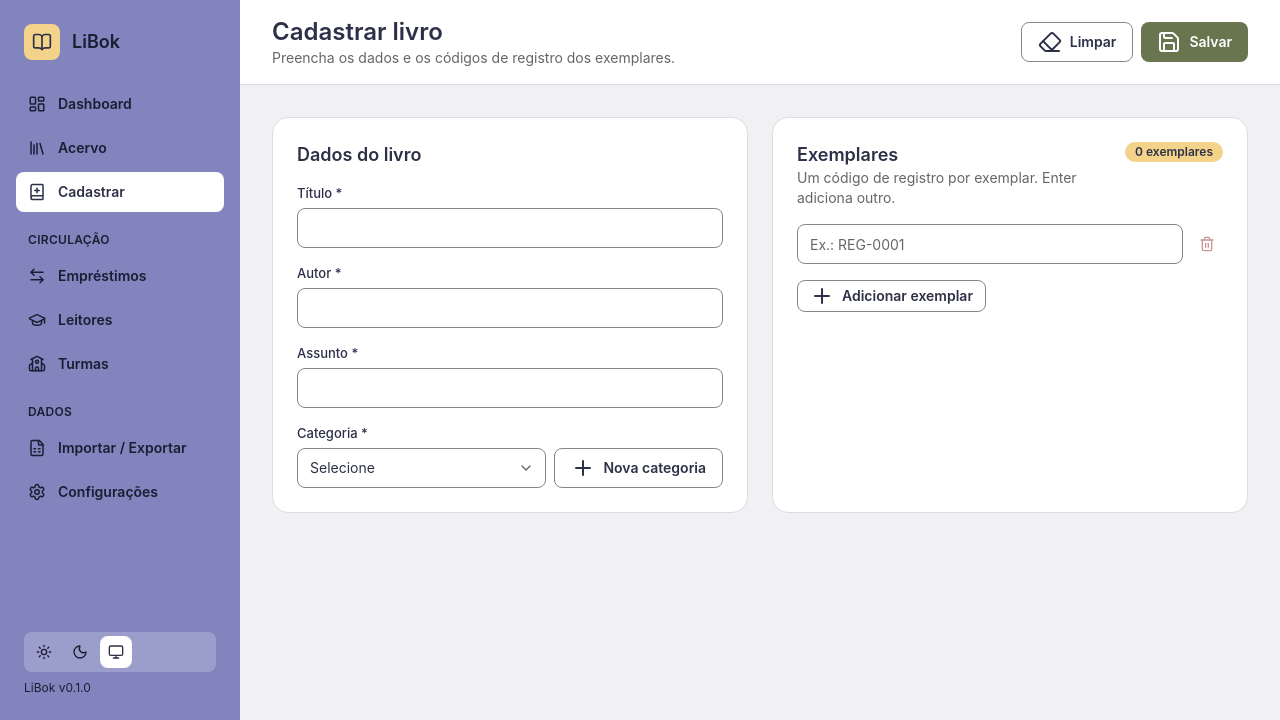
Test case: fluxo: cadastrar livro › mostra o erro de título duplicado no campo
Type "o pequeno principe" into the field labelled "Título *" at (510, 228), box [297,208,723,248]
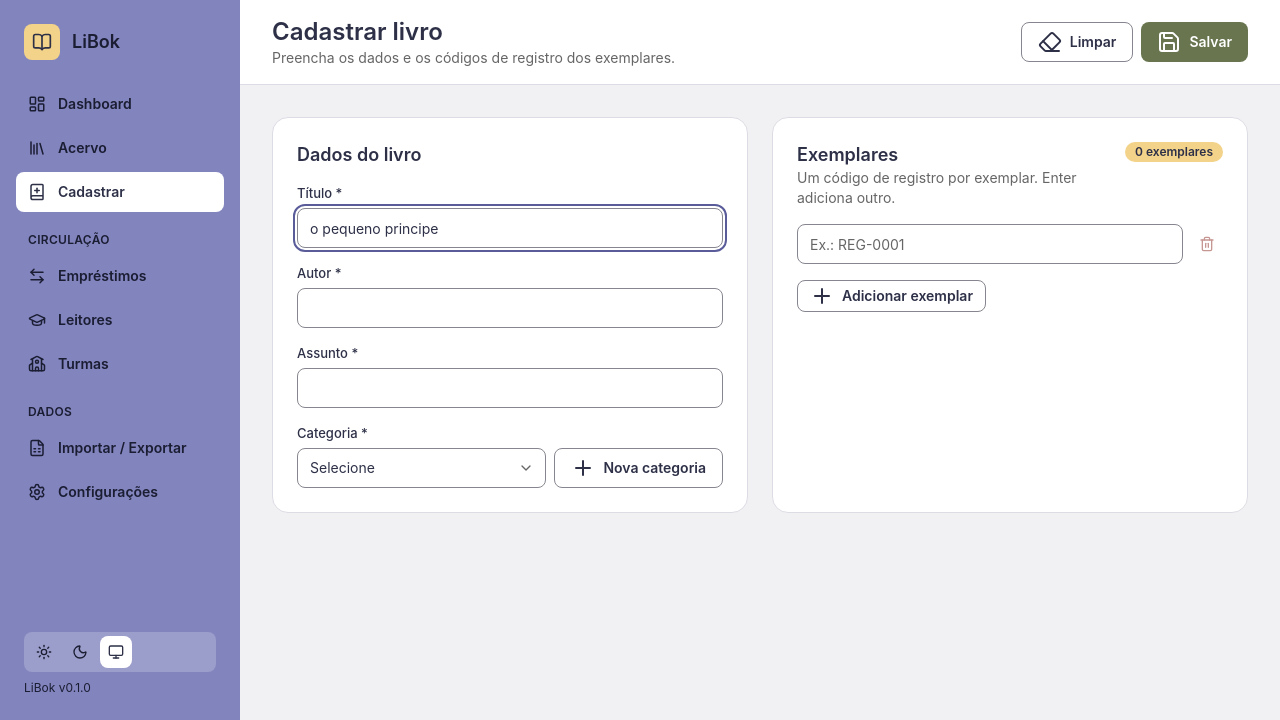
Type "X" into the field labelled "Autor *" at (510, 308), box [297,288,723,328]
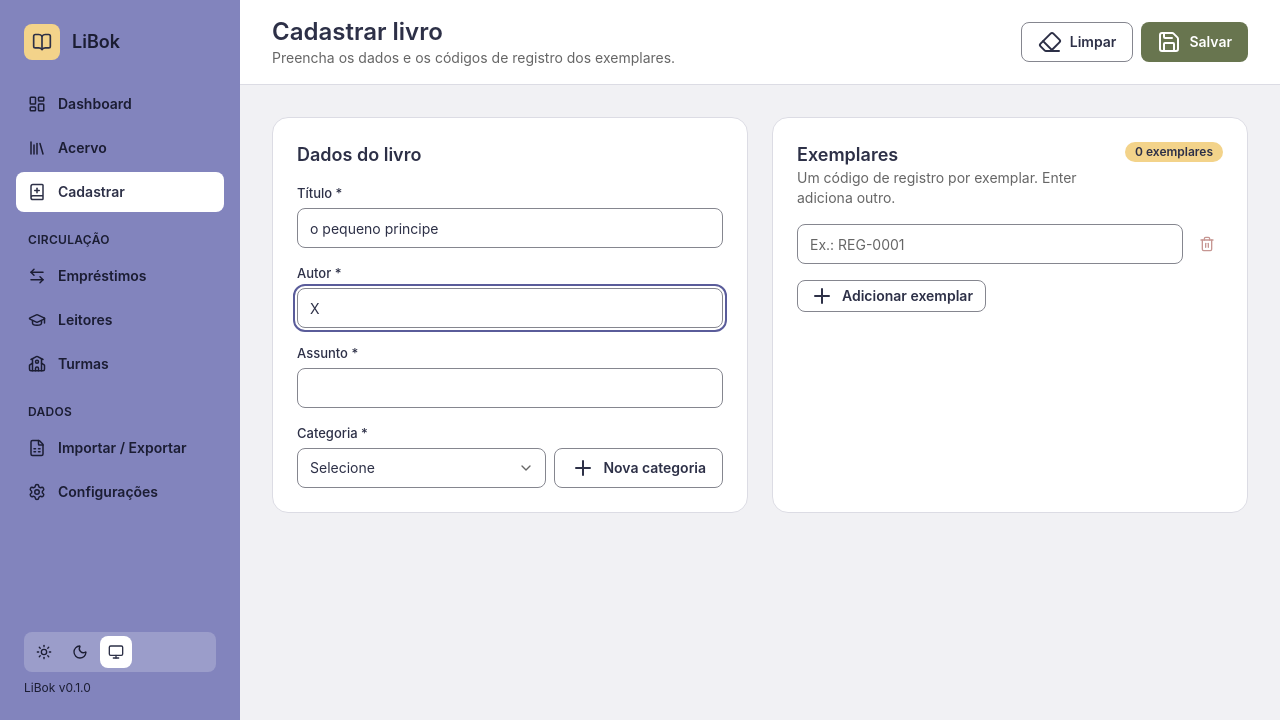
Type "Y" into the field labelled "Assunto *" at (510, 388), box [297,368,723,408]
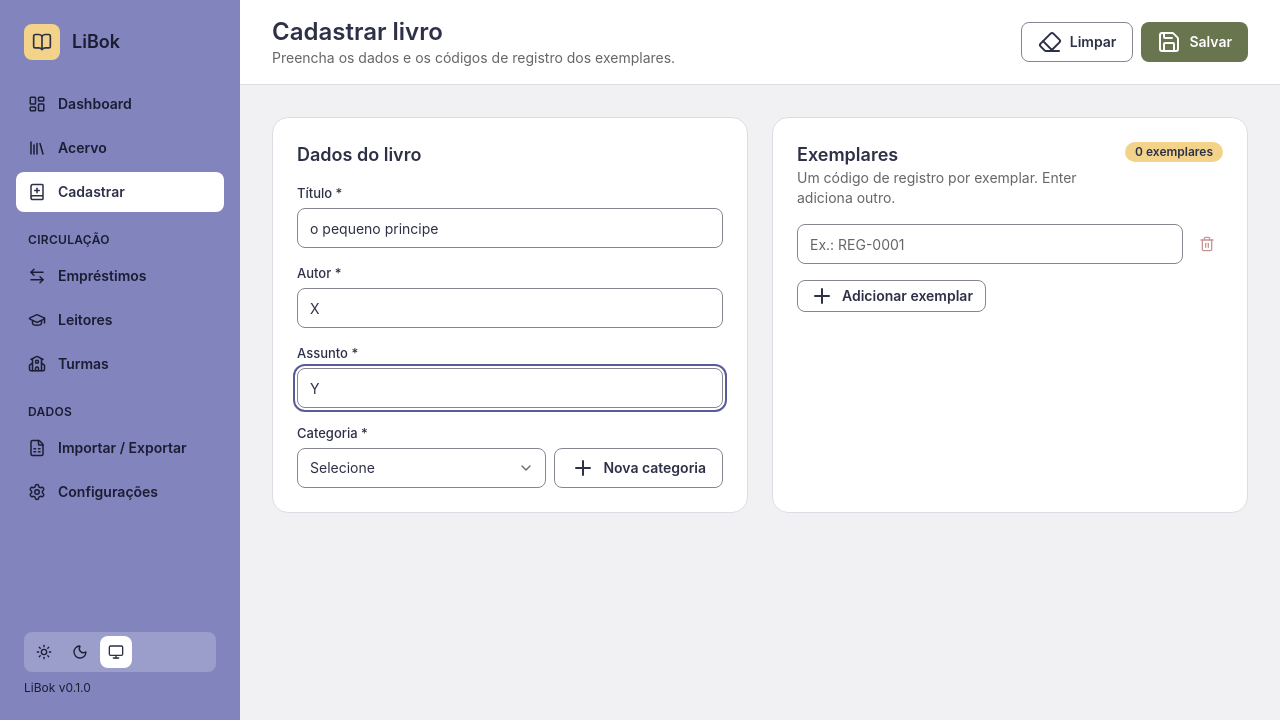
Select "Infantil" in the dropdown labelled "Categoria *" at (422, 468), box [297,448,546,488]
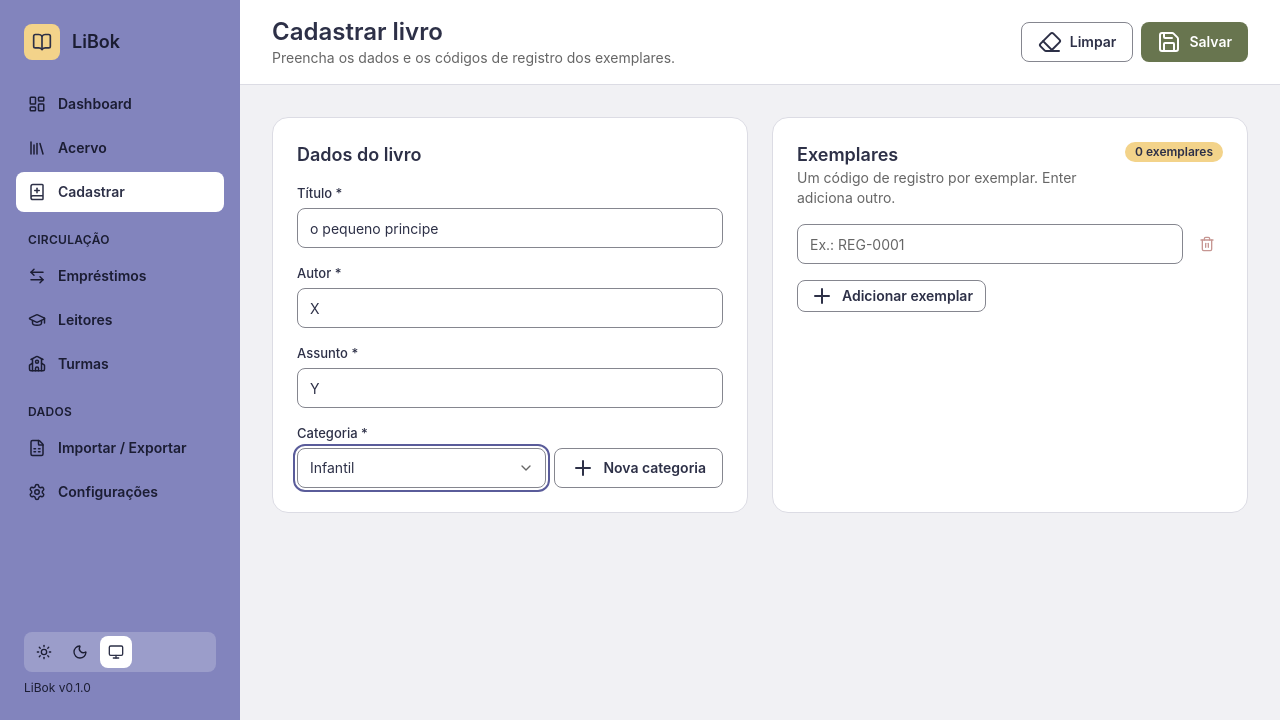
Type "DUP-1" into the field named "Código do exemplar 1" at (990, 244), box [797,224,1183,264]
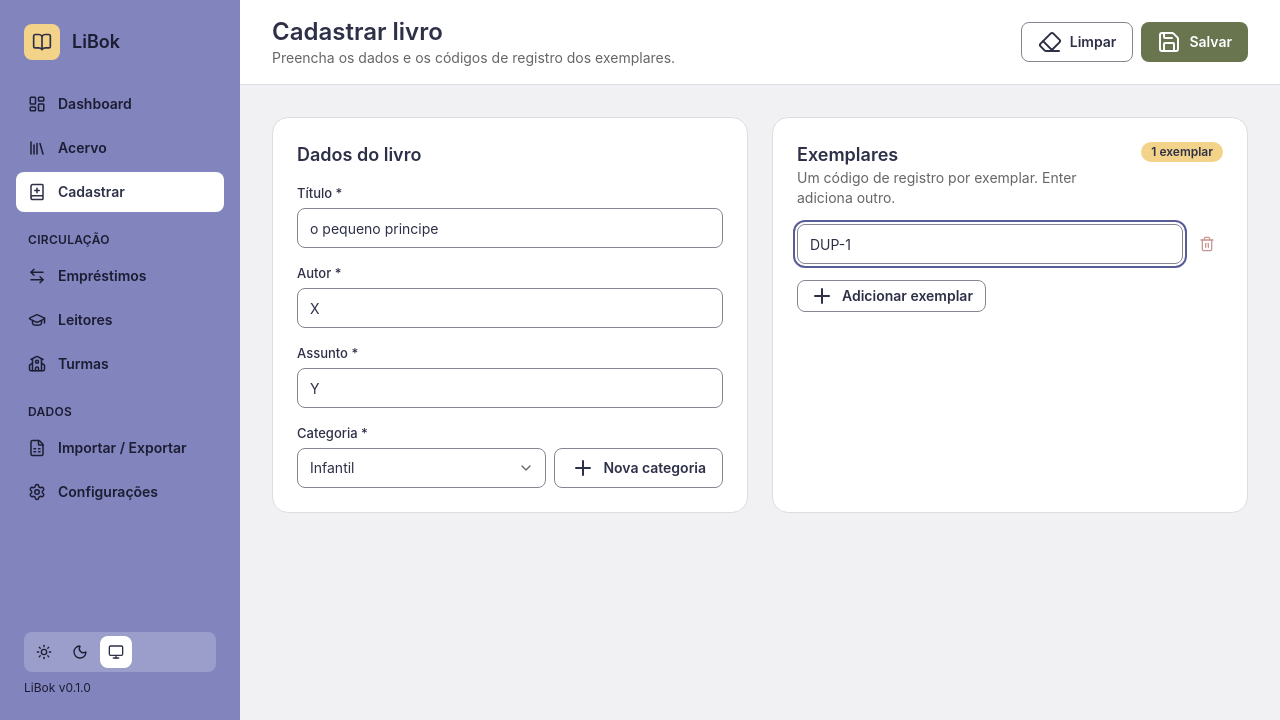
Click the button "Salvar" at (1195, 42), box [1141,22,1248,62]
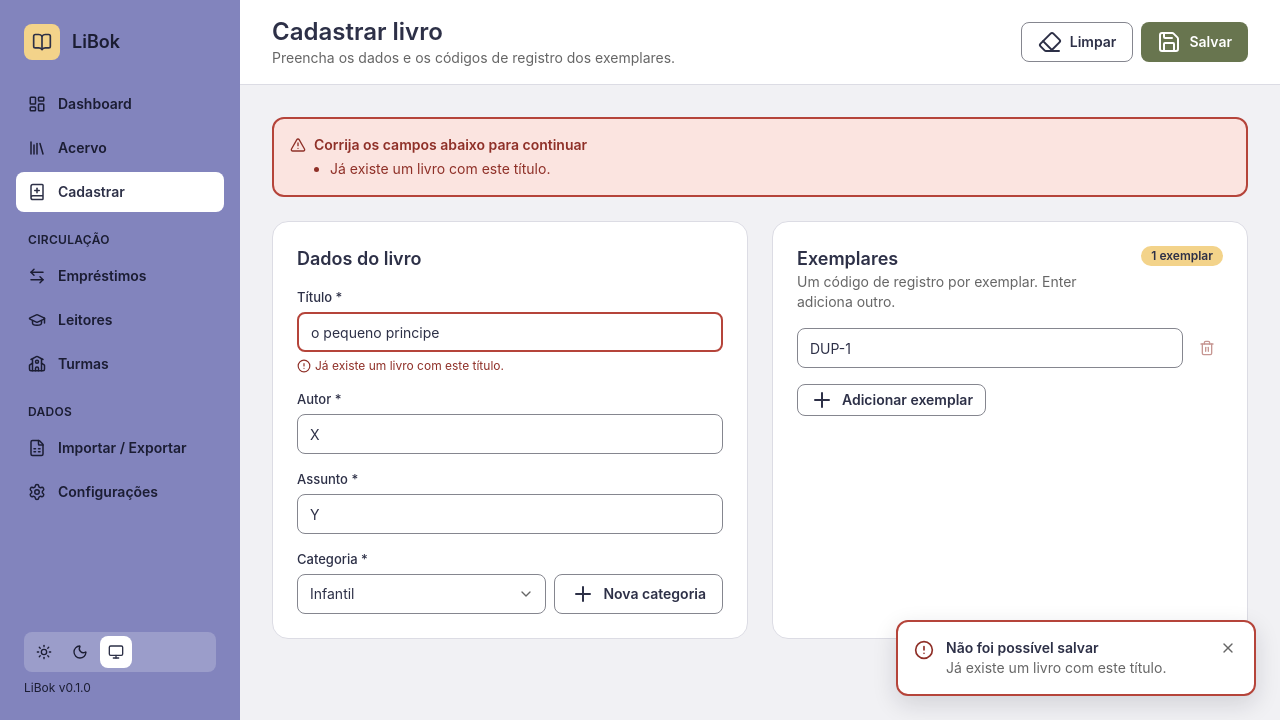
Now the list item "Já existe um livro com este título." is shown, box [330,160,550,177]
